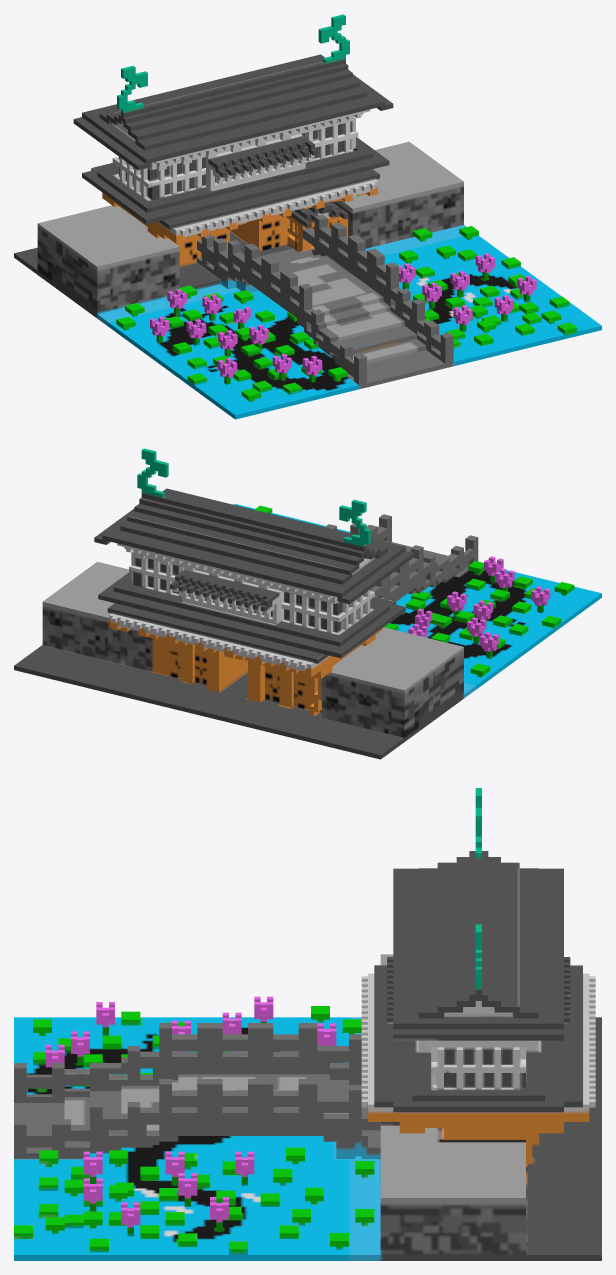
Rendered from goromon_ryu.glb.
The picture shows the model from 3 angles, top to bottom: view 1: azimuth 30°, elevation 25°; view 2: azimuth 150°, elevation 25°; view 3: azimuth 270°, elevation 25°; orthographic projection. The views are drawn at different scales.
Parts seen in each view (by area): view 1: goromon_ryu; view 2: goromon_ryu; view 3: goromon_ryu.
Part boxes in pixels (x1,y1,x2,y2): goromon_ryu: (14, 14, 601, 419); goromon_ryu: (14, 448, 601, 759); goromon_ryu: (14, 788, 601, 1260).
Size of the model in its own units: 1.78 by 0.96 by 1.86.
Materials: 1 (1 with a texture image).
